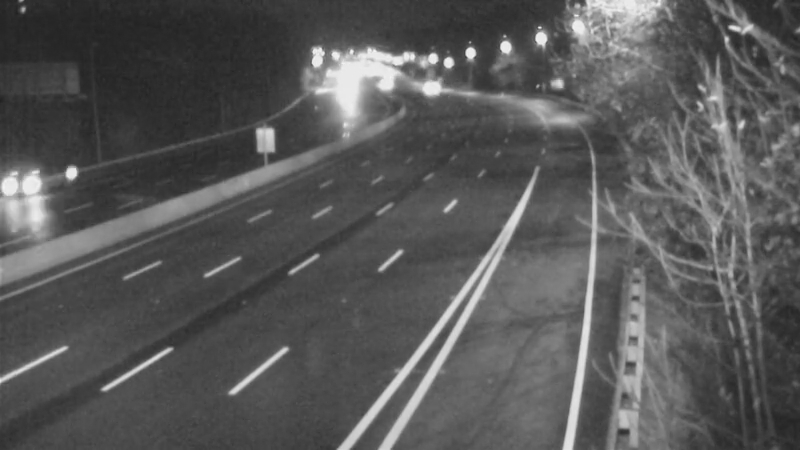vehicle: (1, 142, 76, 222), (356, 58, 406, 108), (399, 59, 449, 109)
